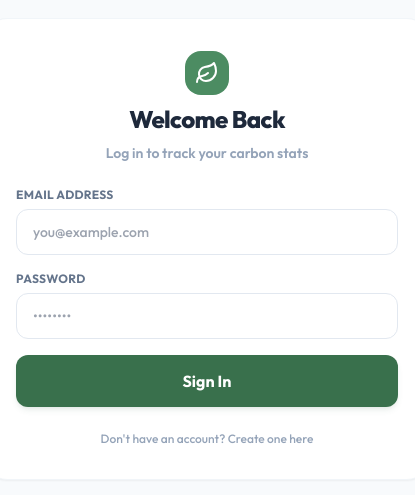
Test: LoginPage › shows error if submitting empty fields
Click the button "Sign In" at {"x": 207, "y": 381}, box [16,355,398,407]
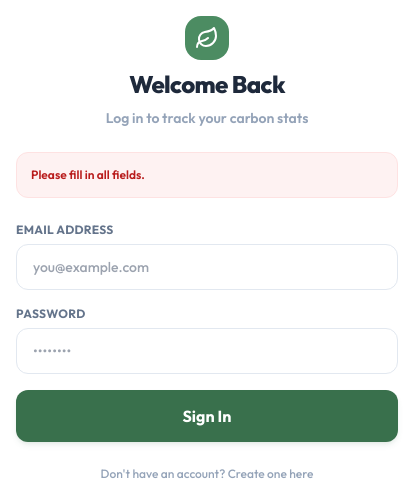
Result: the message reads "Please fill in all fields." at [31,167,145,182]
